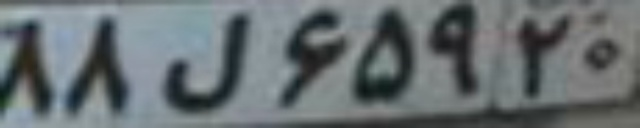0: (577, 38, 625, 72)
2: (517, 14, 569, 97)
5: (355, 8, 415, 105)
6: (276, 11, 351, 108)
8: (68, 13, 128, 115), (1, 18, 50, 121)
9: (424, 3, 482, 97)
lam: (151, 12, 251, 111)
